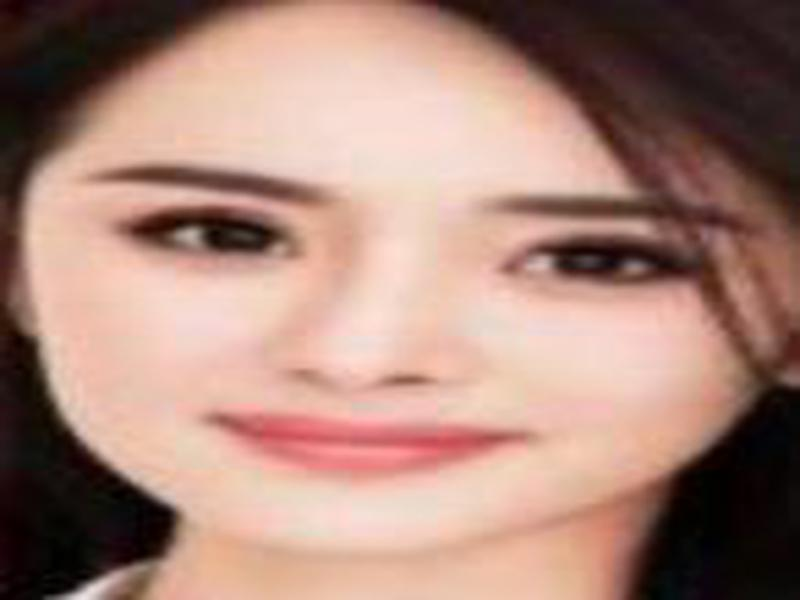without_mask: (21, 102, 783, 555)
